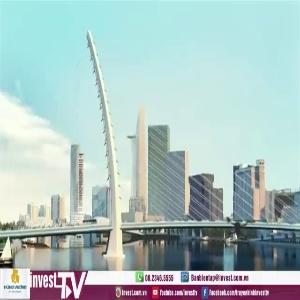drone: (197, 184, 284, 271)
